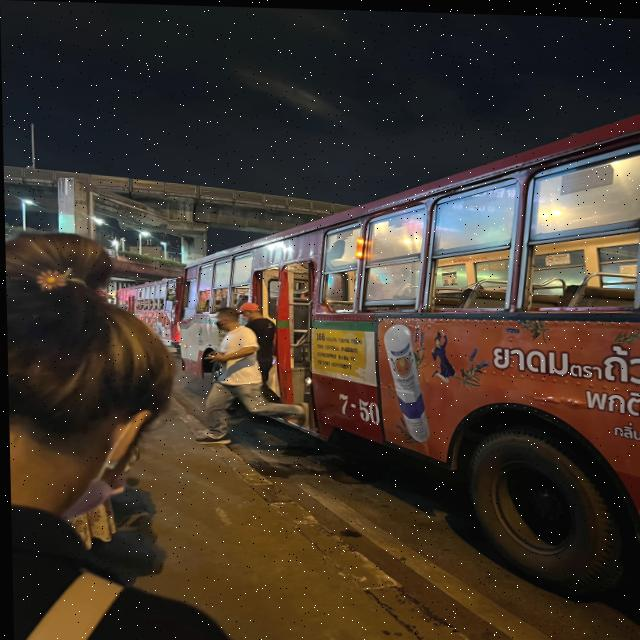BMTA-bus: (172, 95, 640, 603), (115, 273, 179, 347)
